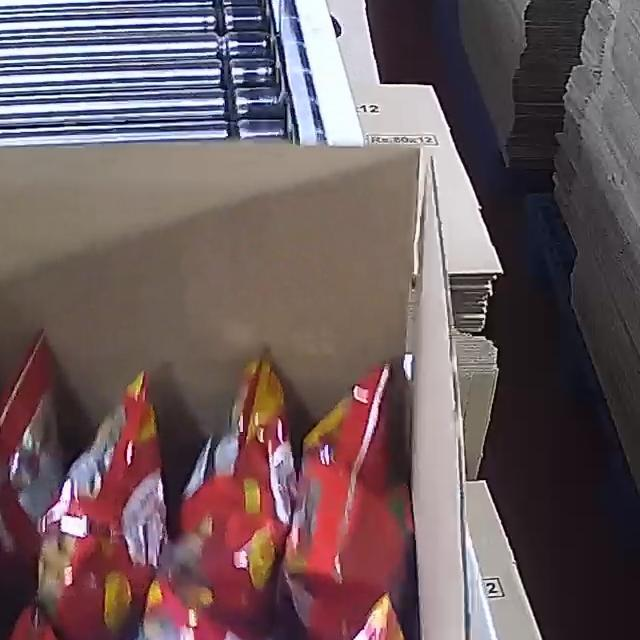masala: (0, 334, 426, 640)
